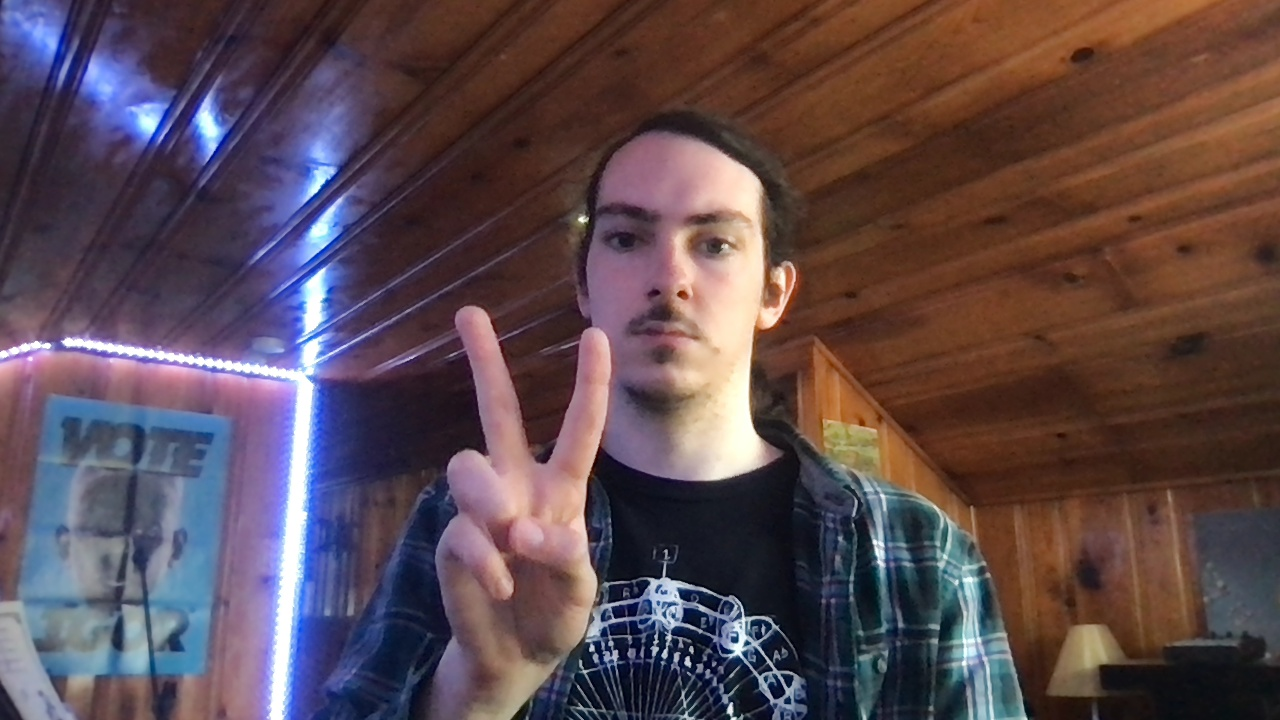v: (433, 301, 616, 675)
